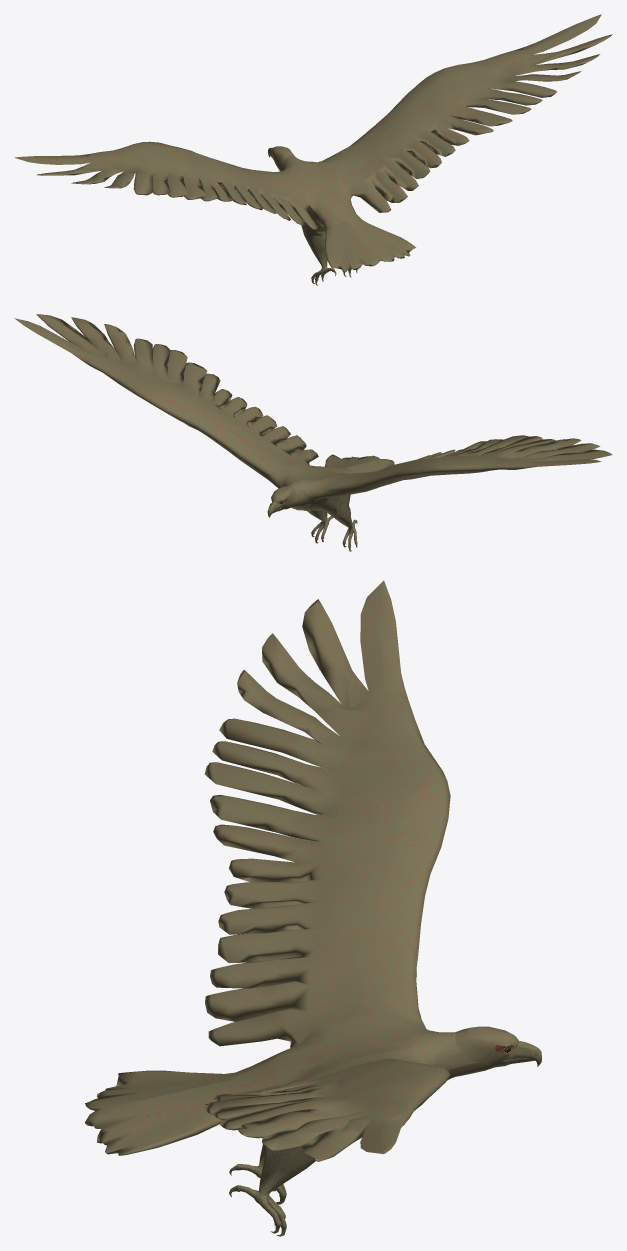
Rendered from eagle.fbx.
3 views of the same model, one above another, from view 1: azimuth 30°, elevation 25°; view 2: azimuth 150°, elevation 25°; view 3: azimuth 270°, elevation 25° (orthographic). The views are drawn at different scales.
Visible parts, largest first — view 1: bldeagle__; view 2: bldeagle__; view 3: bldeagle__.
Part boxes in pixels (<box>): bldeagle__: <box>14,14,612,285</box>; bldeagle__: <box>14,314,612,551</box>; bldeagle__: <box>85,580,541,1236</box>.
Bounding box in the file's own units: 16.93 × 4.86 × 5.7.
